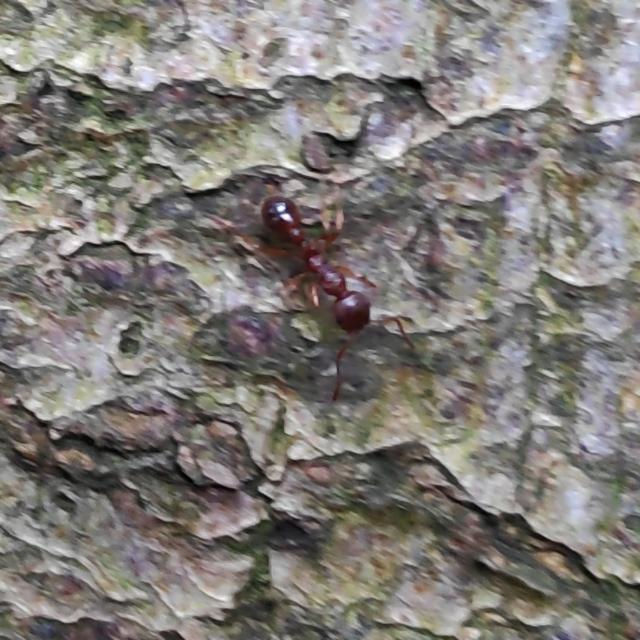Myrmica: (220, 173, 438, 379)
